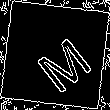M_NW: (21, 20, 89, 90)
